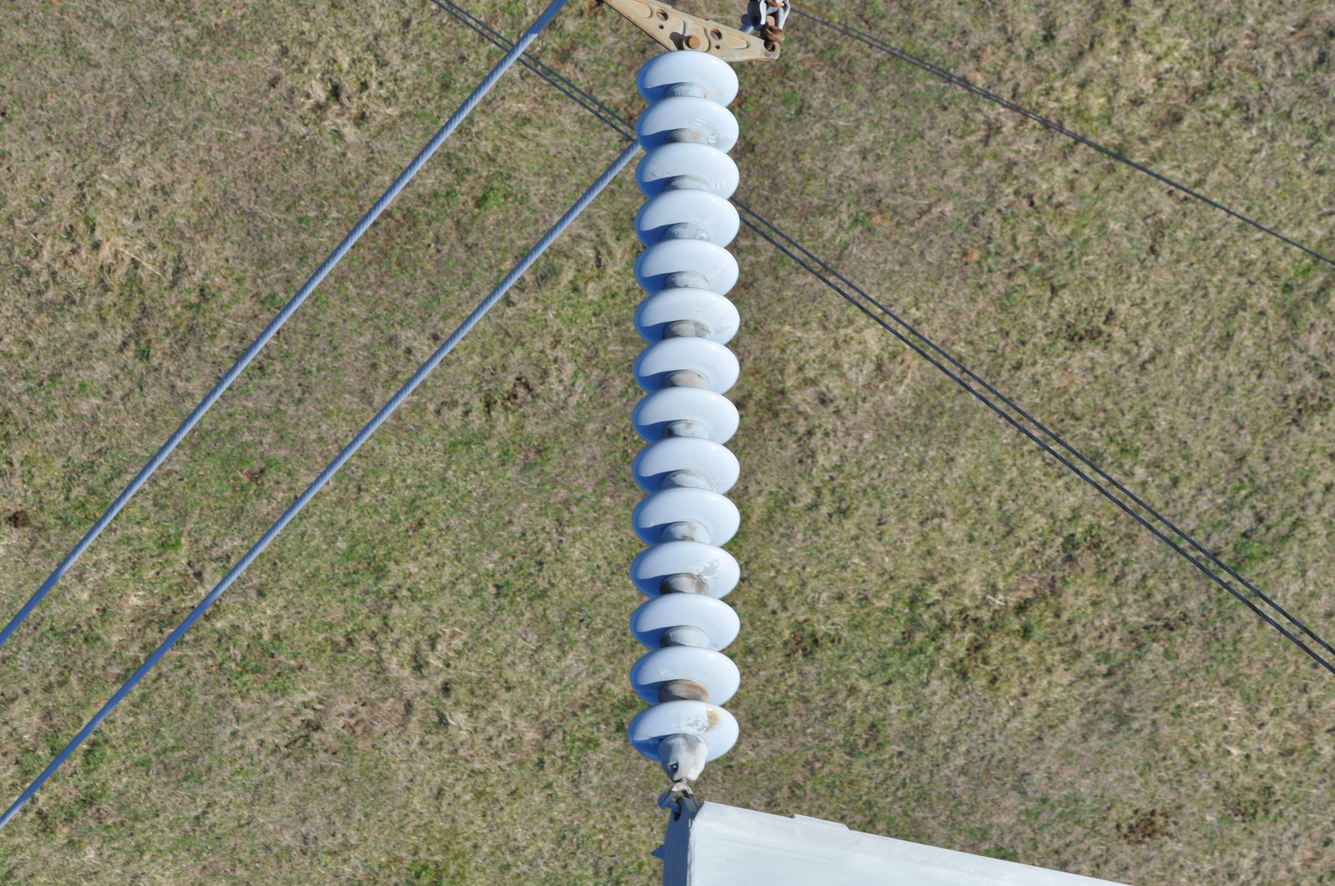Flashover: (677, 704, 721, 739), (691, 551, 728, 581)
insulator: (626, 52, 743, 767)
